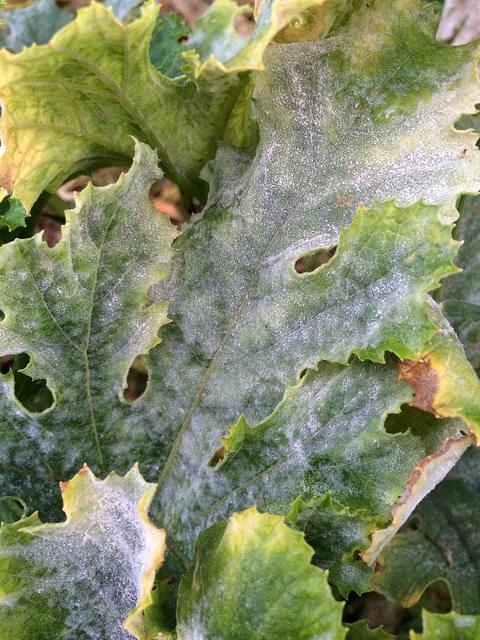Squash Powdery mildew leaf: (6, 4, 480, 637), (6, 454, 171, 632)
